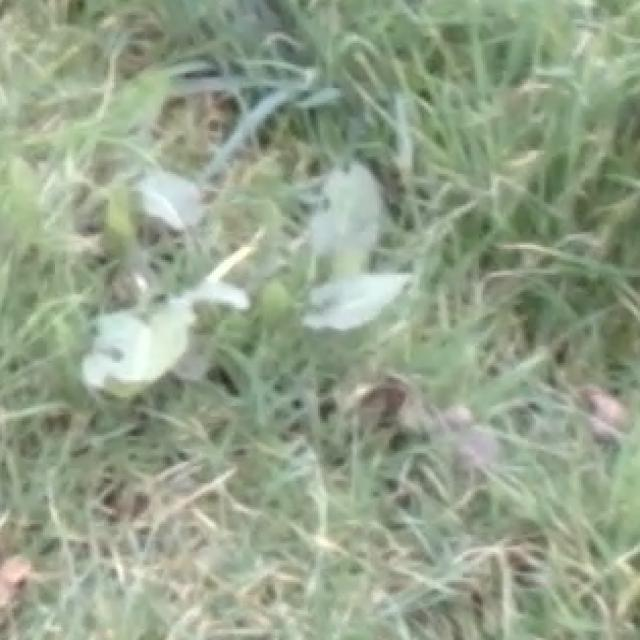organic waste: (87, 125, 442, 455)
